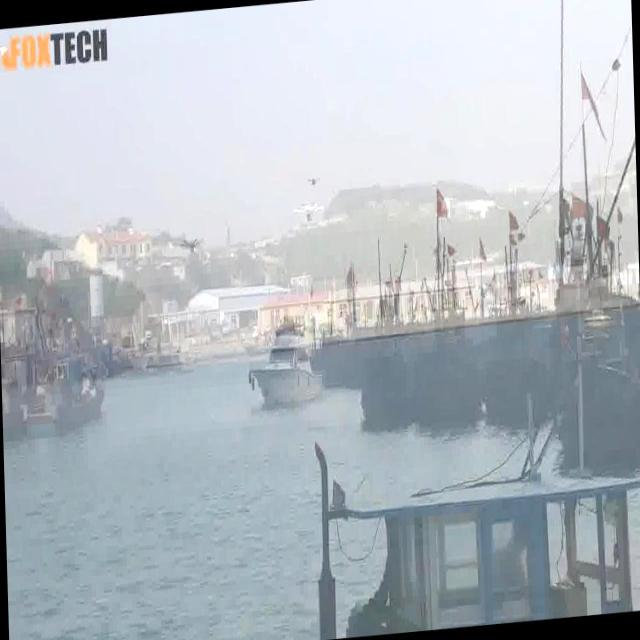drone: (171, 232, 209, 262), (309, 168, 323, 194)
